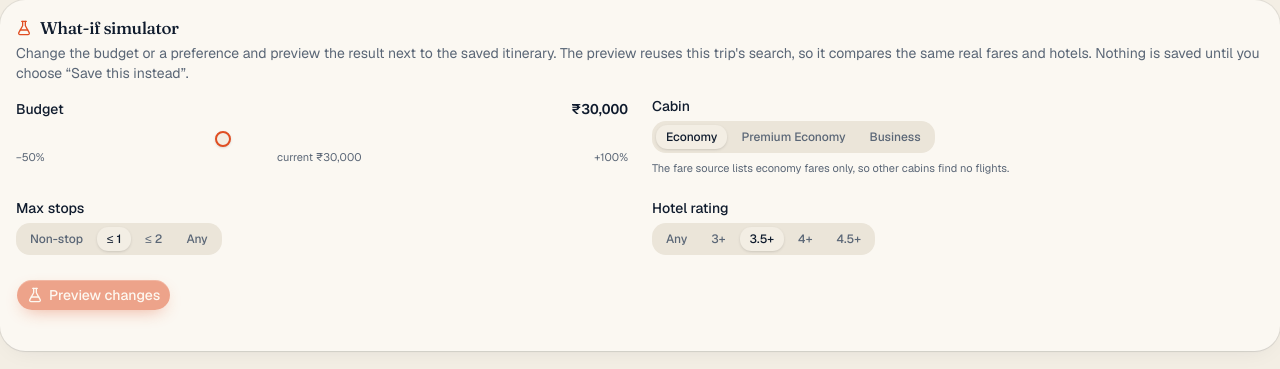
Test: ServerWhatIf › only previews once an input changes
The width and height of the screenshot is (1280, 369).
Expected: the button "Preview changes" is disabled, [16, 279, 171, 311]
What coordinates should you click on to do the following:
click the radio button labelled "Non-stop"
I would click on:
 (56, 239)
Its box is [20, 227, 93, 251].
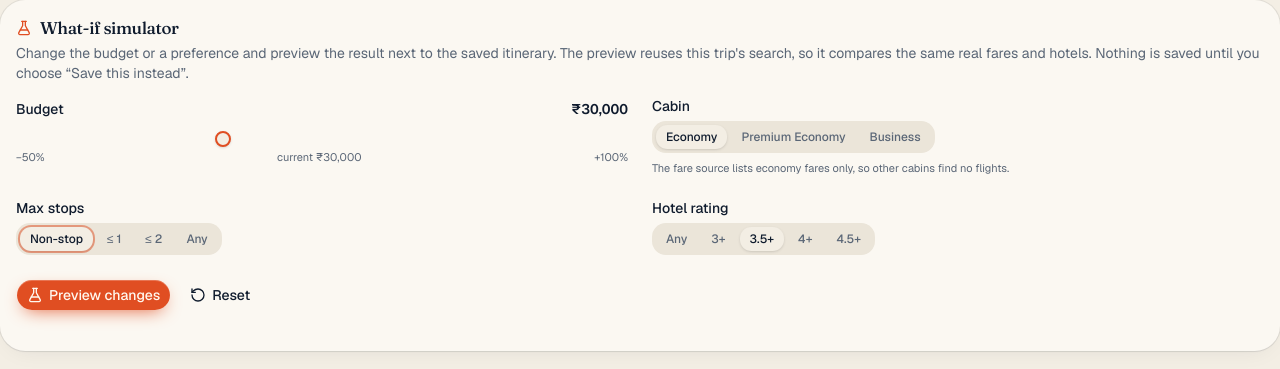
Expected: the button "Preview changes" is enabled, [16, 279, 171, 311]
